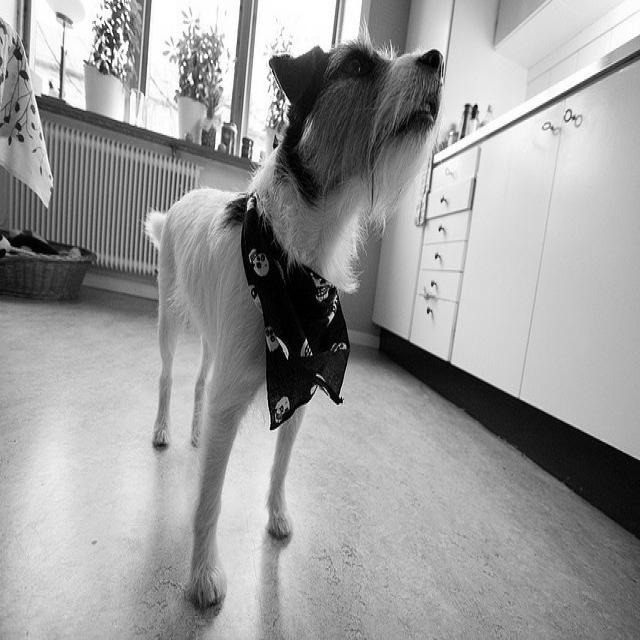dog: (143, 37, 447, 608)
